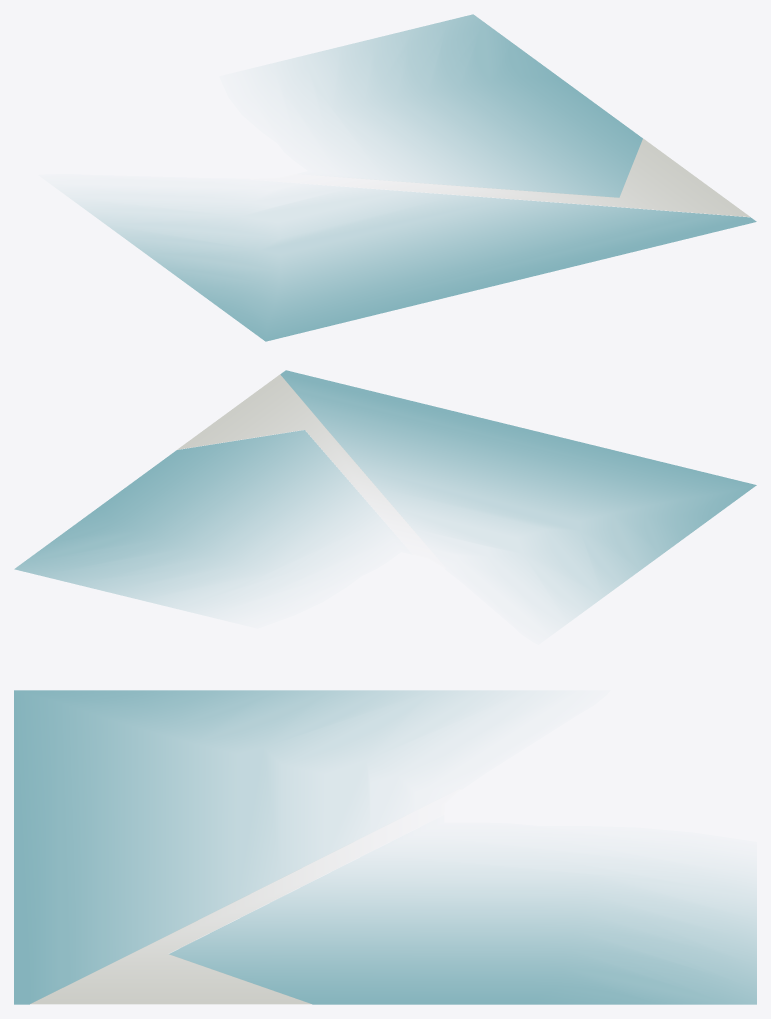
3 views of the same model, one above another, from view 1: azimuth 30°, elevation 25°; view 2: azimuth 150°, elevation 25°; view 3: azimuth 270°, elevation 25° (orthographic). The views are drawn at different scales.
Parts seen in each view (by area): view 1: city; view 2: city; view 3: city.
Boxes of the visible parts, x1=… form: city: x1=75, y1=14, x2=756, y2=341; city: x1=14, y1=370, x2=756, y2=619; city: x1=14, y1=690, x2=756, y2=1004.
Size of the model in its own units: 500 by 0.18 by 500.
